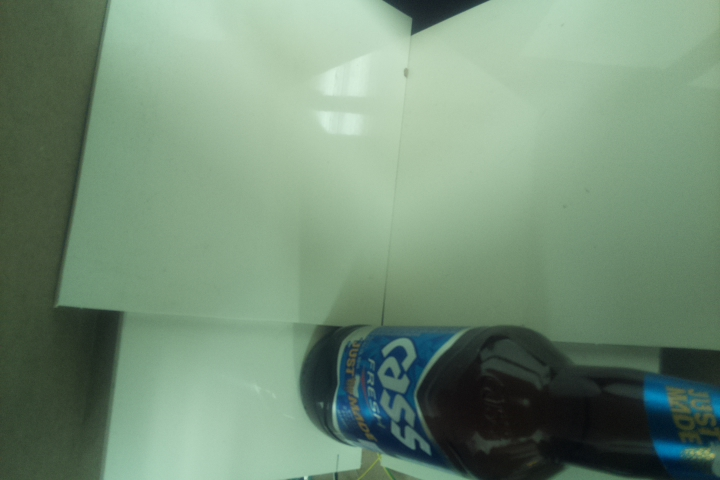makju: (298, 324, 720, 479)
